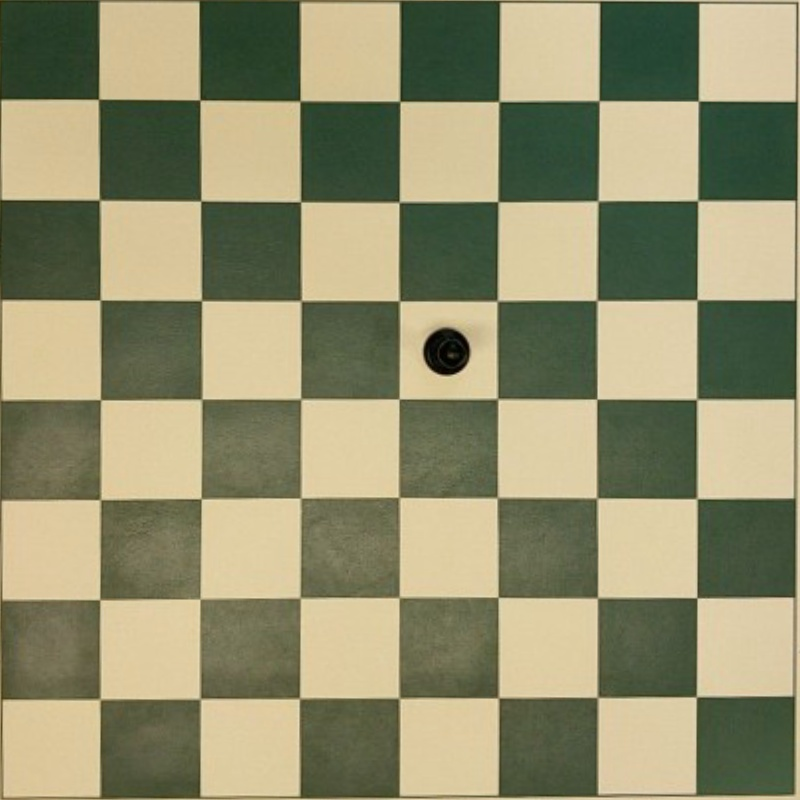black-pawn: (423, 327, 470, 375)
